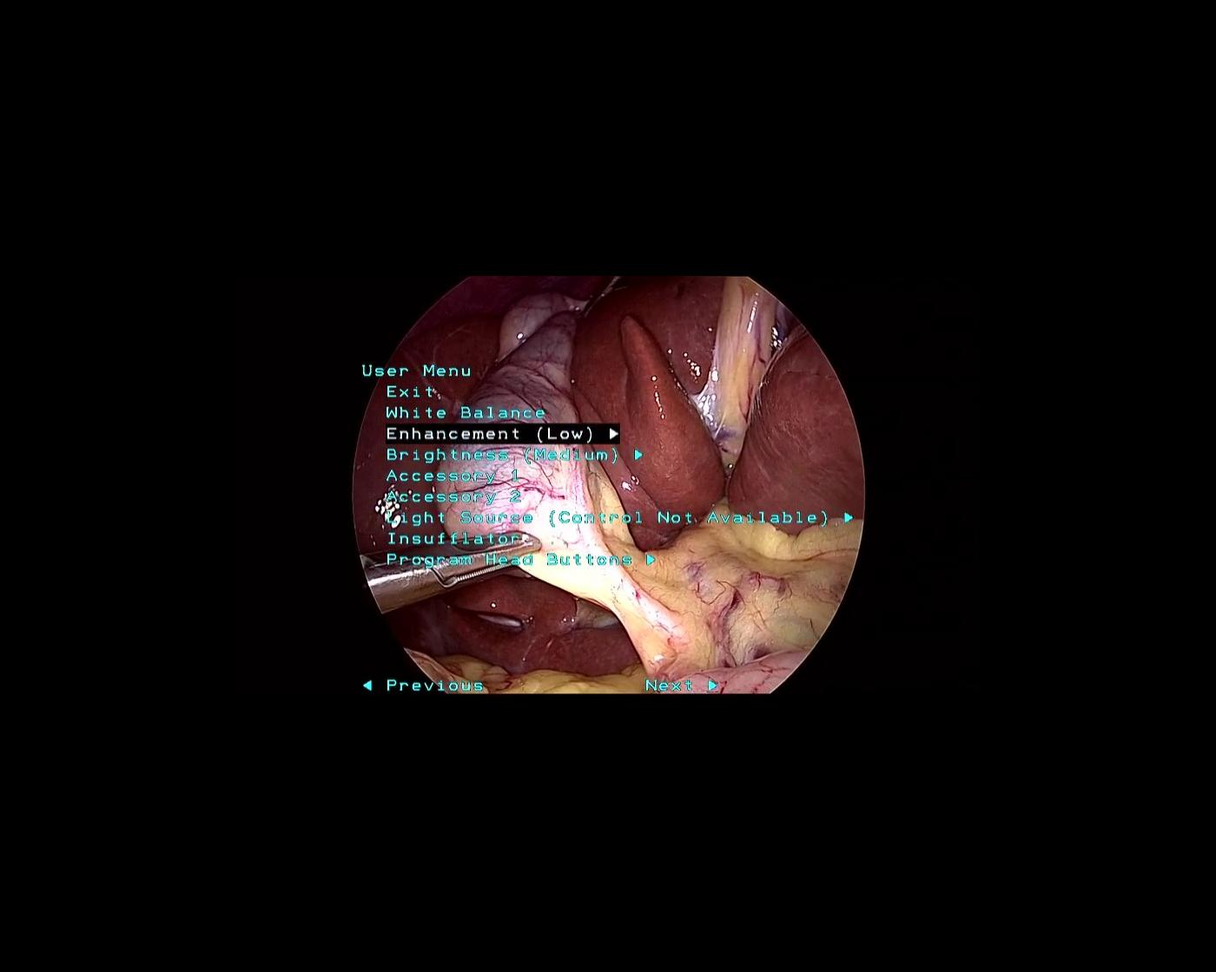Forceps: (358, 500, 547, 611)
Gallbladder: (434, 293, 597, 565)
Liver: (294, 306, 641, 746), (558, 245, 868, 562)
